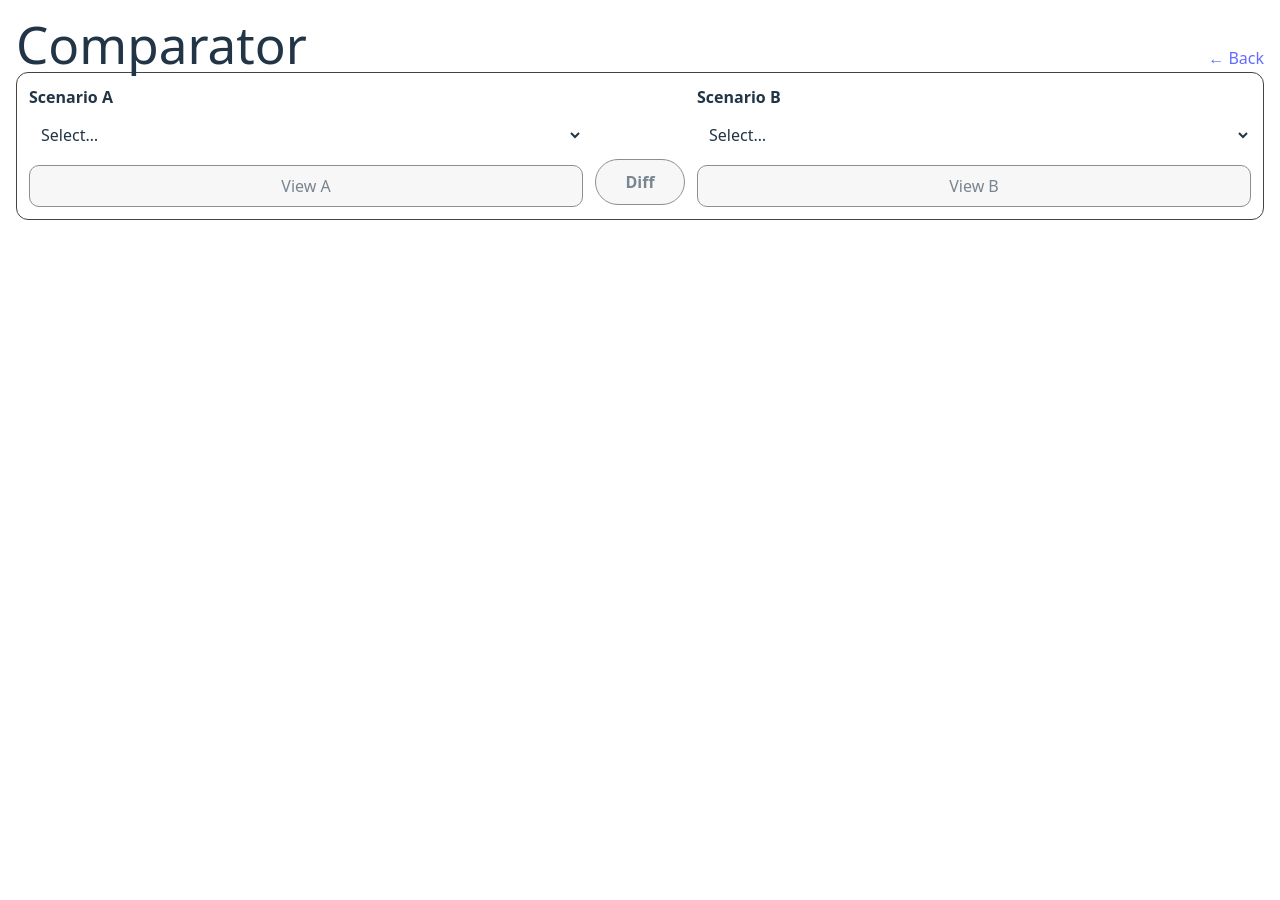
Scenario: RunDiffPage metadata › renders metadata rows when diff is available
Select "Scenario A" in the dropdown below "Scenario A": coordinates (306, 135) [29,115,583,155]
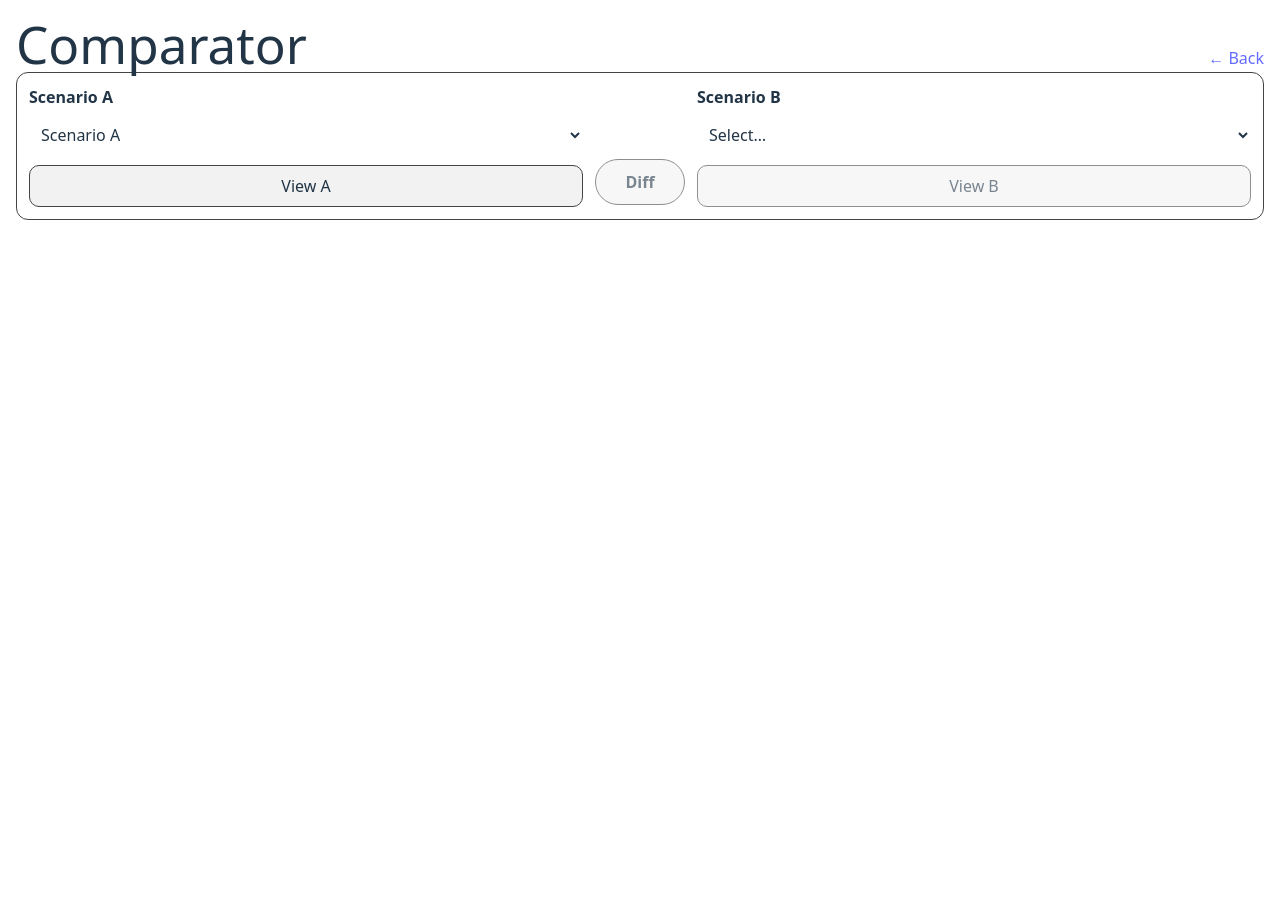
Select "Scenario B" in the dropdown below "Scenario B": coordinates (974, 135) [697,115,1251,155]
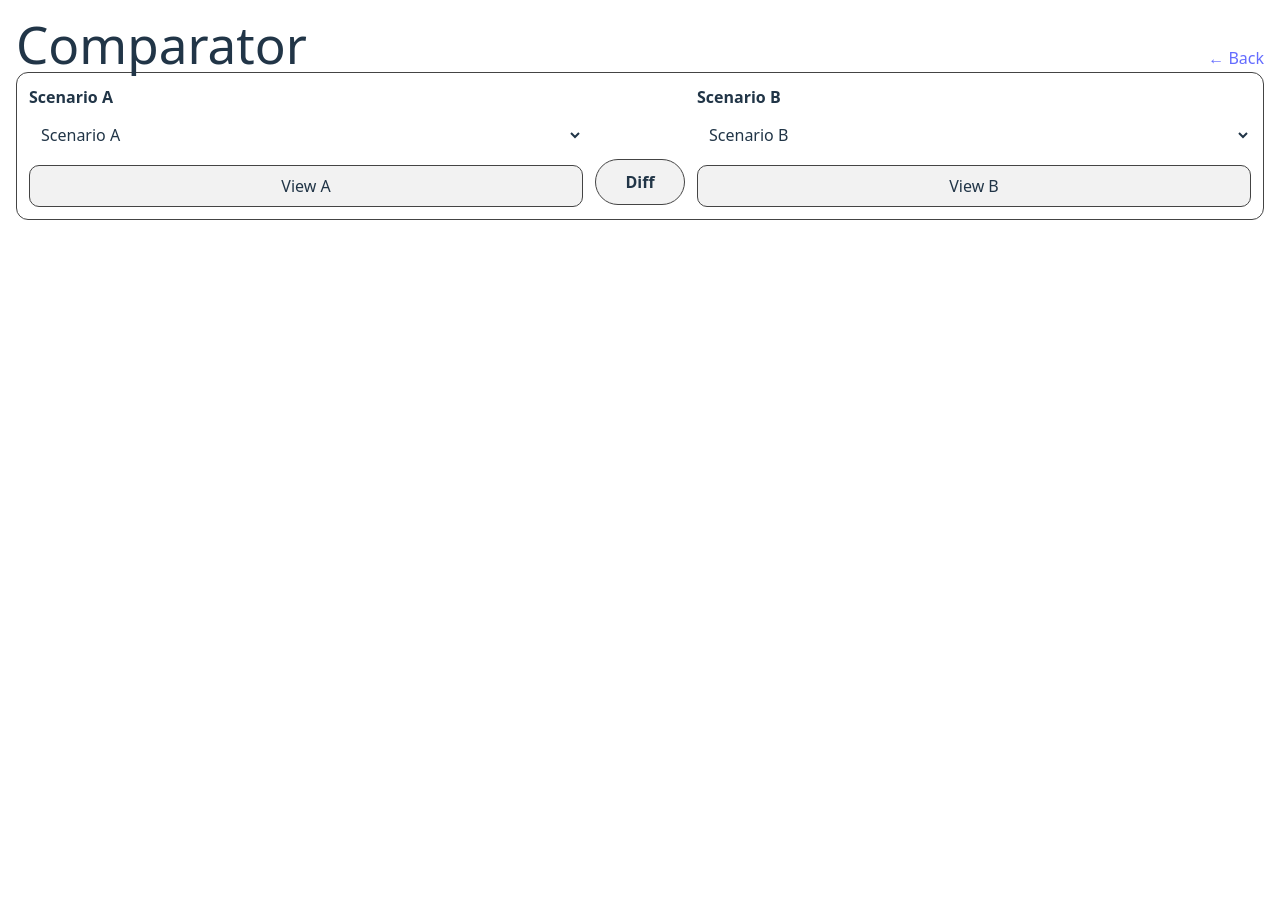
Click the button "Diff": coordinates (640, 182) [595,159,685,205]
(page scrolled)
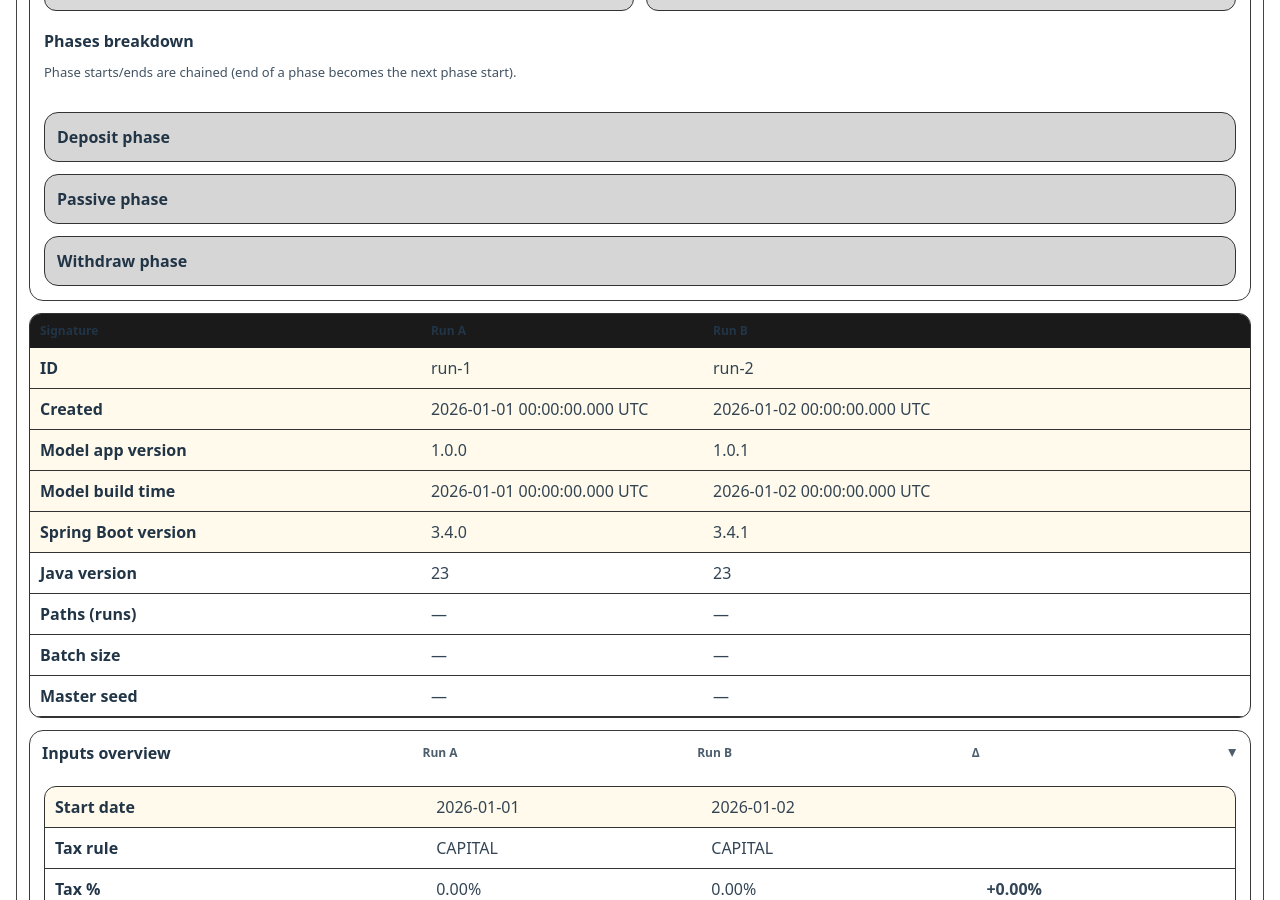
Result: the text "Model build time" is shown at [40,480,175,502]
Result: the text "Spring Boot version" is shown at [40,521,197,543]
Result: the text "Java version" is shown at [40,562,137,584]
